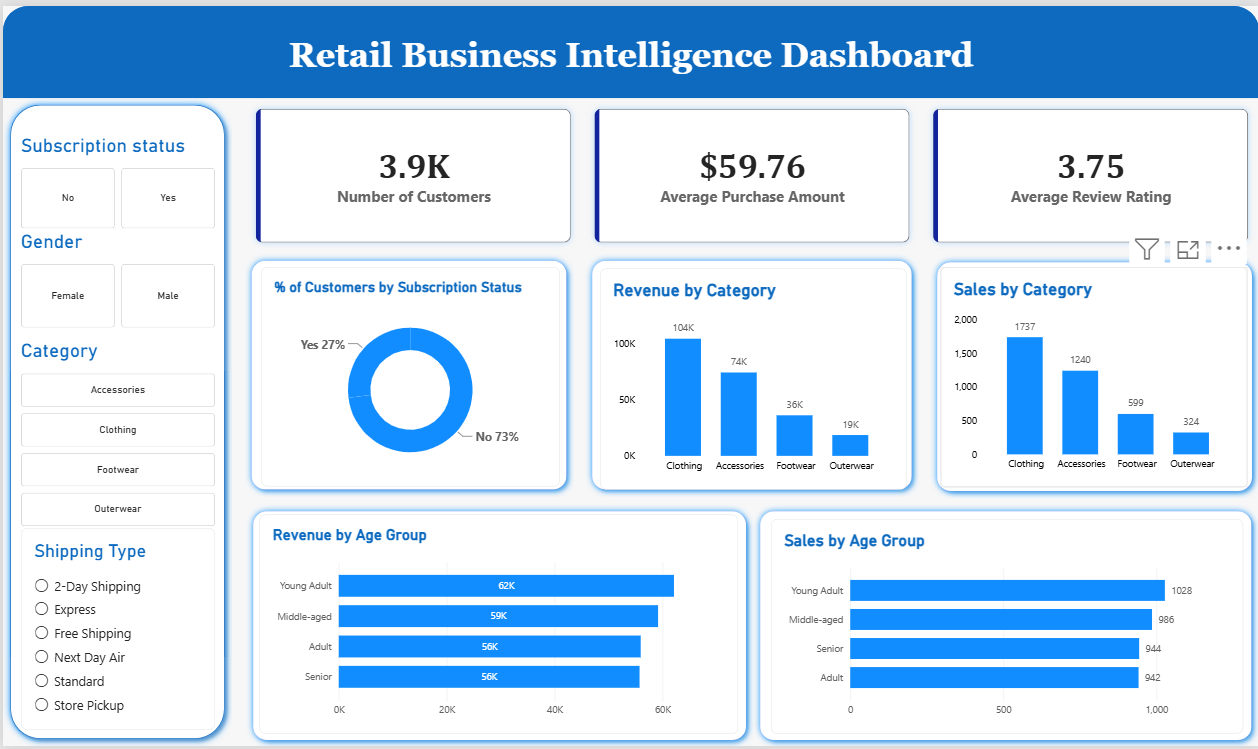

What the dashboard file says about the page in this screenshot:
{"tool":"powerbi","page":{"name":"Page 1","canvas":[1580,932],"ordinal":0},"visuals":[{"type":"cardVisual","fields":{"Data":["public customer.Number of Customers","public customer.Average Purchase Amount","public customer.Average Review Rating"]},"box":[304,116,1276,196],"z":0},{"type":"shape","box":[0,0,1580,116],"z":1},{"type":"textbox","box":[0,0,1580,138],"z":2},{"type":"shape","box":[304,312,414,306],"z":3},{"type":"donutChart","title":"% of Customers by Subscription Status","fields":{"Category":["public customer.subscription_status"],"Y":["CountNonNull(public customer.customer_id)"]},"box":[324,328,376,276],"z":4},{"type":"shape","box":[732,312,420,306],"z":5},{"type":"shape","box":[1166,314,414,306],"z":6},{"type":"clusteredColumnChart","title":"Revenue by Category","fields":{"Category":["public customer.category"],"Y":["Sum(public customer.purchase_amount)"]},"box":[750,330,386,278],"z":7},{"type":"clusteredColumnChart","title":"Sales by Category","fields":{"Category":["public customer.category"],"Y":["CountNonNull(public customer.purchase_amount)"]},"box":[1180,328,386,278],"z":8},{"type":"shape","box":[0,116,288,816],"z":9},{"type":"advancedSlicerVisual","fields":{"Values":["public customer.subscription_status"]},"box":[22,160,244,120],"z":10},{"type":"advancedSlicerVisual","fields":{"Values":["public customer.gender"]},"box":[22,282,244,124],"z":11},{"type":"advancedSlicerVisual","fields":{"Values":["public customer.category"]},"box":[22,418,244,238],"z":12},{"type":"listSlicer","fields":{"Values":["public customer.shipping_type"]},"box":[22,656,244,254],"z":13},{"type":"shape","box":[306,626,638,306],"z":15},{"type":"shape","box":[944,626,636,306],"z":16},{"type":"clusteredBarChart","title":"Revenue by Age Group","fields":{"Category":["public customer.age_group"],"Y":["Sum(public customer.purchase_amount)"]},"box":[322,640,602,276],"z":17},{"type":"clusteredBarChart","title":"Sales by Age Group","fields":{"Category":["public customer.age_group"],"Y":["CountNonNull(public customer.customer_id)"]},"box":[966,646,594,270],"z":18}]}

Visuals, with their boxes in screenshot pixels (x1, y1, x2, y2), scaled from the page's 1580x932 canvas onto the 1258x749 screenshot:
cardVisual - public customer.Number of Customers x public customer.Average Purchase Amount: l=242, t=93, r=1257, b=251
shape: l=0, t=0, r=1257, b=93
textbox: l=0, t=0, r=1257, b=111
shape: l=242, t=251, r=572, b=497
"% of Customers by Subscription Status" donutChart: l=258, t=264, r=557, b=485
shape: l=583, t=251, r=917, b=497
shape: l=928, t=252, r=1257, b=498
"Revenue by Category" clusteredColumnChart: l=597, t=265, r=904, b=489
"Sales by Category" clusteredColumnChart: l=940, t=264, r=1247, b=487
shape: l=0, t=93, r=229, b=748
advancedSlicerVisual - public customer.subscription_status: l=18, t=129, r=212, b=225
advancedSlicerVisual - public customer.gender: l=18, t=227, r=212, b=326
advancedSlicerVisual - public customer.category: l=18, t=336, r=212, b=527
listSlicer - public customer.shipping_type: l=18, t=527, r=212, b=731
shape: l=244, t=503, r=752, b=748
shape: l=752, t=503, r=1257, b=748
"Revenue by Age Group" clusteredBarChart: l=256, t=514, r=736, b=736
"Sales by Age Group" clusteredBarChart: l=769, t=519, r=1242, b=736
